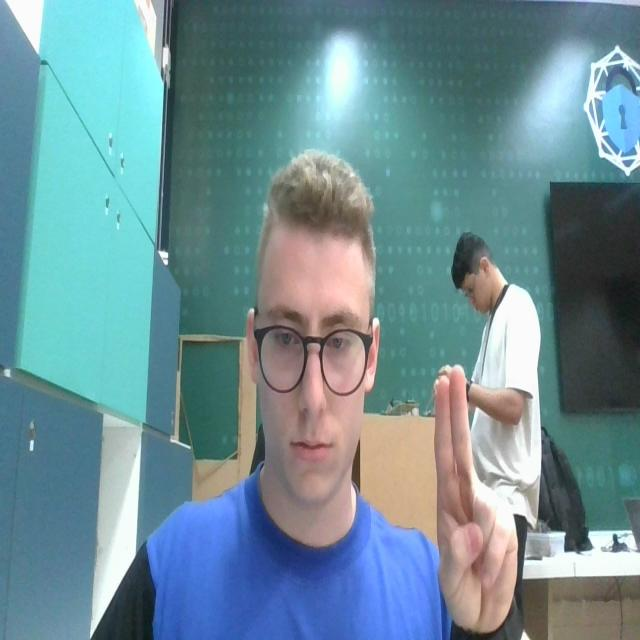U: (434, 359, 520, 631)
